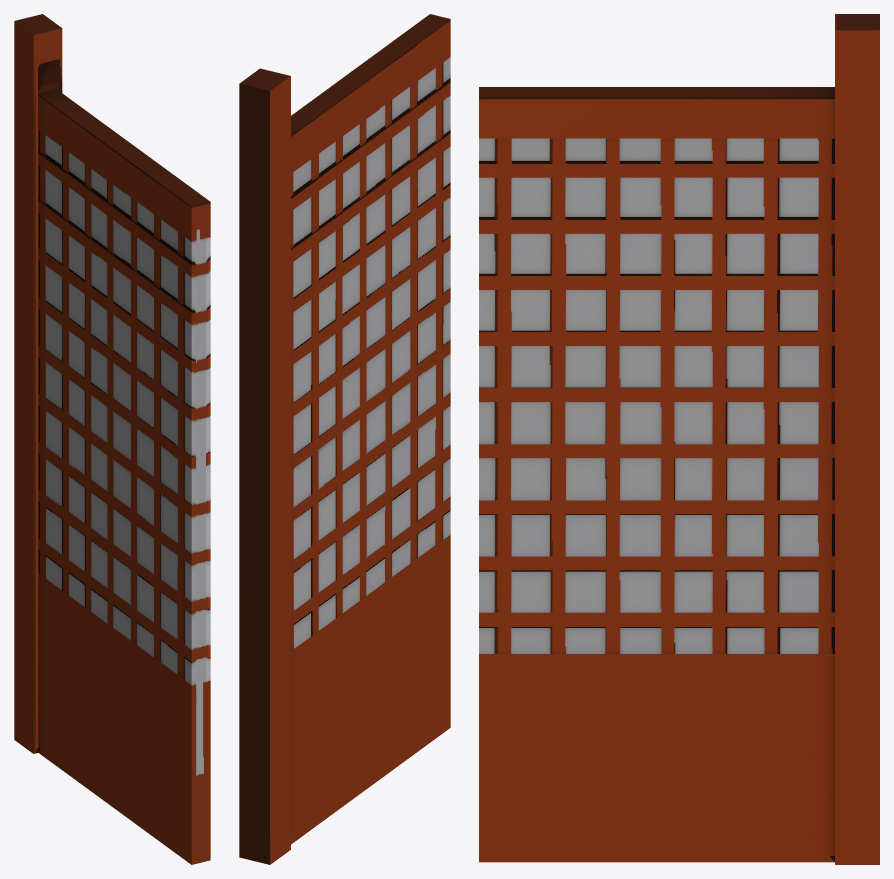
File: temple wall.FBX
The picture shows the model from 3 angles, left to right: view 1: azimuth 30°, elevation 25°; view 2: azimuth 150°, elevation 25°; view 3: azimuth 270°, elevation 25°; orthographic projection. The views are drawn at different scales.
Visible parts, largest first — view 1: screen wall; view 2: screen wall; view 3: screen wall.
Boxes of the visible parts, left/top/right/bottom form: screen wall: left=14, top=14, right=210, bottom=864; screen wall: left=239, top=14, right=450, bottom=864; screen wall: left=479, top=14, right=879, bottom=864.
Bounding box in the file's own units: 7.2 × 173 × 75.2.
Materials: 1 (1 with a texture image).
